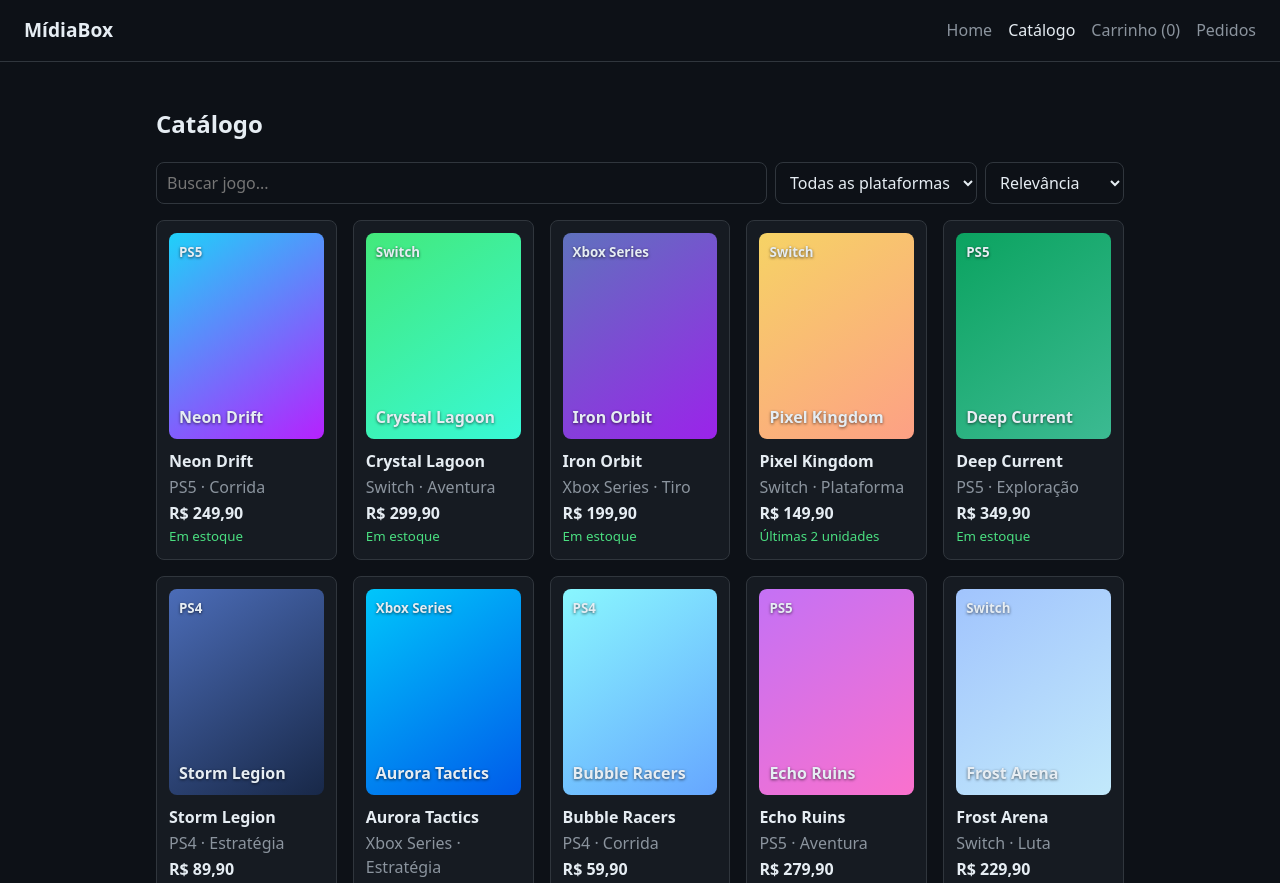
página Catálogo › a busca filtra os jogos
The image size is (1280, 883).
Type "neon" into the field with placeholder "Buscar jogo..." at (462, 183), box top-left (156, 162), bottom-right (767, 204)
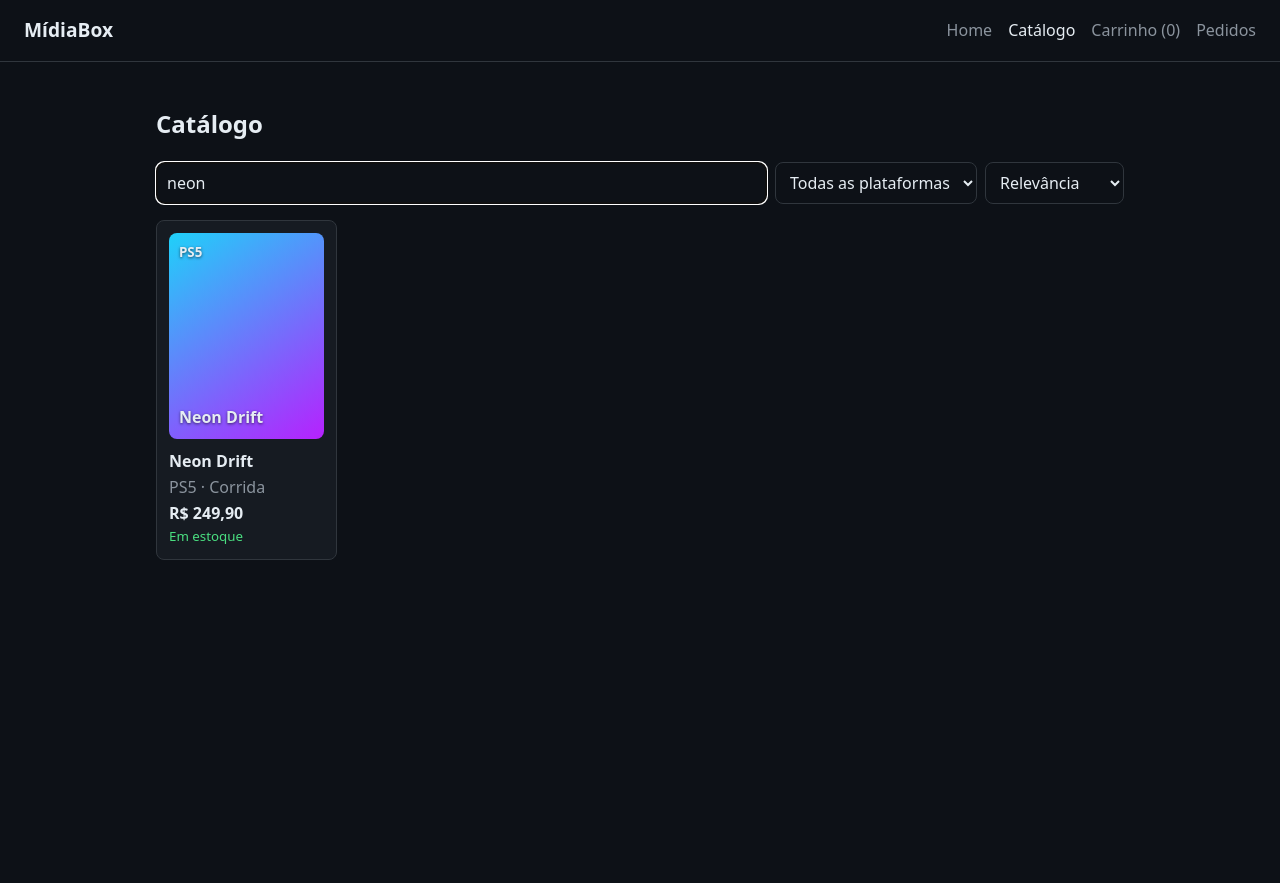
Expected: the heading "Neon Drift" is shown, top-left (169, 450), bottom-right (253, 472)
Expected: the link "Iron Orbit" is gone
